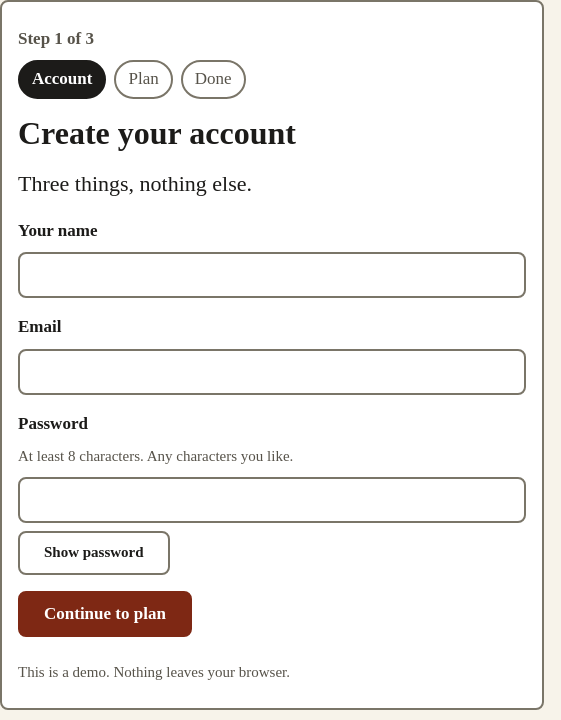
account step › an empty submit shows an error summary, marks fields and moves focus
The image size is (561, 720).
Click the button "Continue to plan" at x=105, y=614, box top-left (18, 591), bottom-right (192, 637)
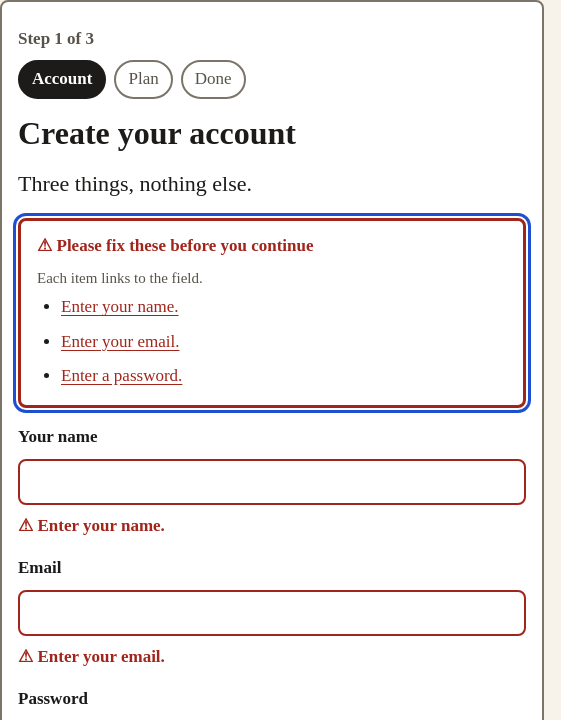
Now the message shows "Enter your name.", box top-left (61, 290), bottom-right (178, 324)
Now the message shows "Enter your email.", box top-left (61, 324), bottom-right (180, 359)
Now the message shows "Enter a password.", box top-left (61, 359), bottom-right (182, 393)
